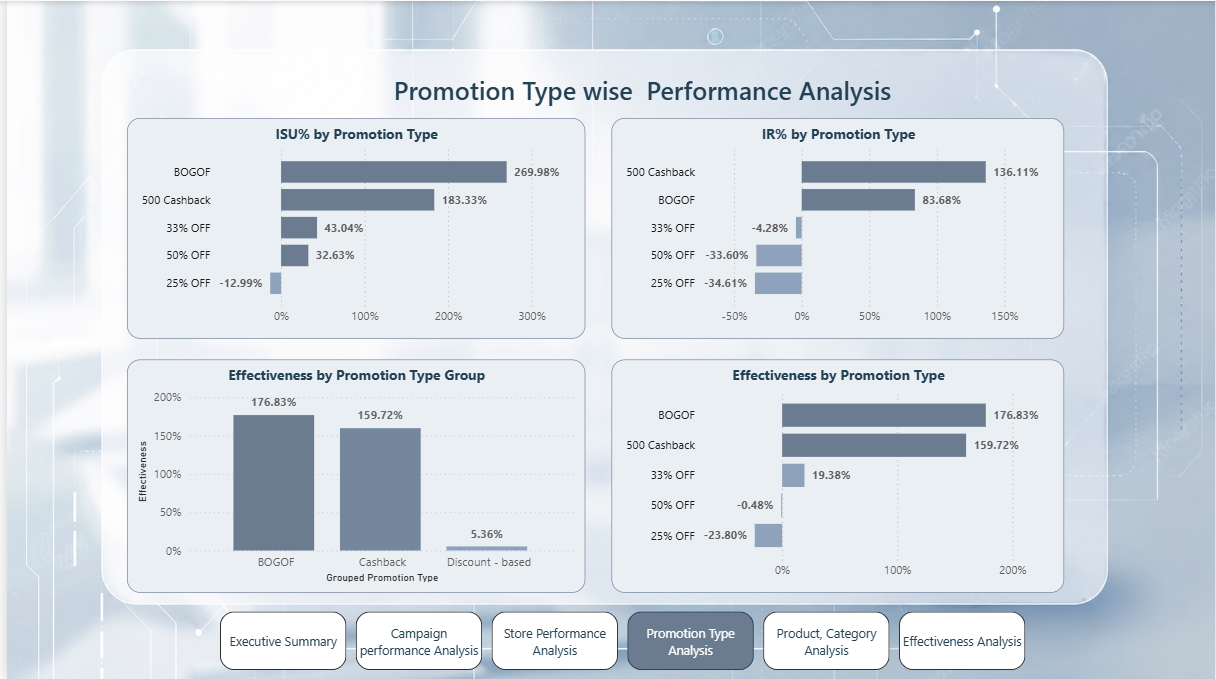

Layout of this report page (visuals, bound fields, positions):
{"tool":"powerbi","page":{"name":"Promotion Type Analysis","canvas":[1280,720],"ordinal":3},"visuals":[{"type":"clusteredBarChart","fields":{"Category":["FACT_EVENTS.PROMO_TYPE"],"Y":["FACT_EVENTS.ISU%"]},"box":[126.6,124.7,485.7,234.3],"z":0},{"type":"clusteredBarChart","fields":{"Category":["FACT_EVENTS.PROMO_TYPE"],"Y":["FACT_EVENTS.IR%"]},"box":[640.6,124.7,480,234.3],"z":1000},{"type":"textbox","box":[221.1,52.9,912.8,71.8],"z":2000},{"type":"clusteredColumnChart","title":"Effectiveness by Promotion Type Group","fields":{"Category":["FACT_EVENTS.PROMO_TYPE (groups)"],"Y":["FACT_EVENTS.Overall Effectiveness"]},"box":[126.6,379.8,485.7,247.6],"z":3000},{"type":"clusteredBarChart","fields":{"Category":["FACT_EVENTS.PROMO_TYPE"],"Y":["FACT_EVENTS.Overall Effectiveness"]},"box":[640.6,379.8,480,247.6],"z":4000},{"type":"pageNavigator","box":[225.9,647.4,854.2,62],"z":5000}]}

Visuals, with their boxes in screenshot pixels (x1, y1, x2, y2), scaled from the page's 1280x720 canvas onto the 1216x679 screenshot:
clusteredBarChart - FACT_EVENTS.PROMO_TYPE x FACT_EVENTS.ISU%: select_region(120, 118, 582, 339)
clusteredBarChart - FACT_EVENTS.PROMO_TYPE x FACT_EVENTS.IR%: select_region(609, 118, 1065, 339)
textbox: select_region(210, 50, 1077, 118)
"Effectiveness by Promotion Type Group" clusteredColumnChart: select_region(120, 358, 582, 592)
clusteredBarChart - FACT_EVENTS.PROMO_TYPE x FACT_EVENTS.Overall Effectiveness: select_region(609, 358, 1065, 592)
pageNavigator: select_region(215, 611, 1026, 669)
